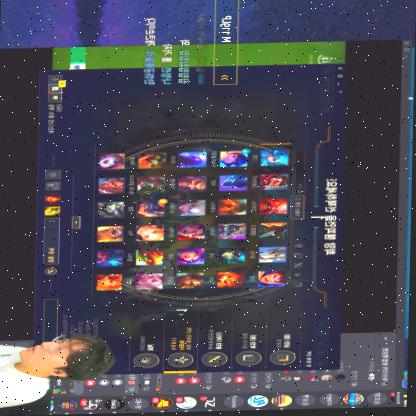streamer: (0, 332, 119, 414)
